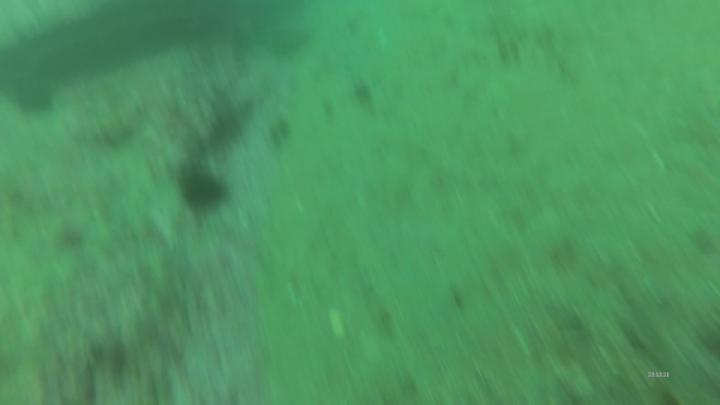echinus: (173, 155, 232, 212)
